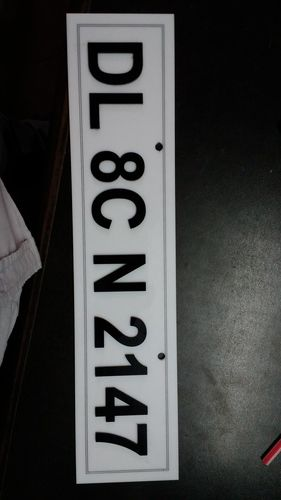number_plate: (61, 9, 182, 490)
